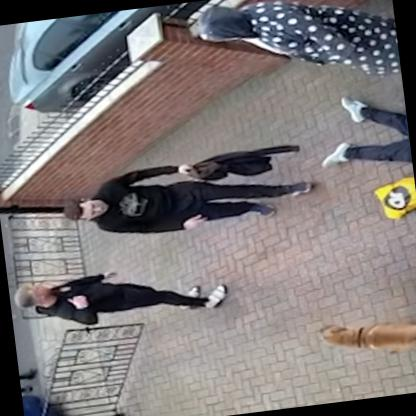Human Body: (46, 128, 320, 250), (187, 0, 401, 106), (8, 250, 236, 340)
